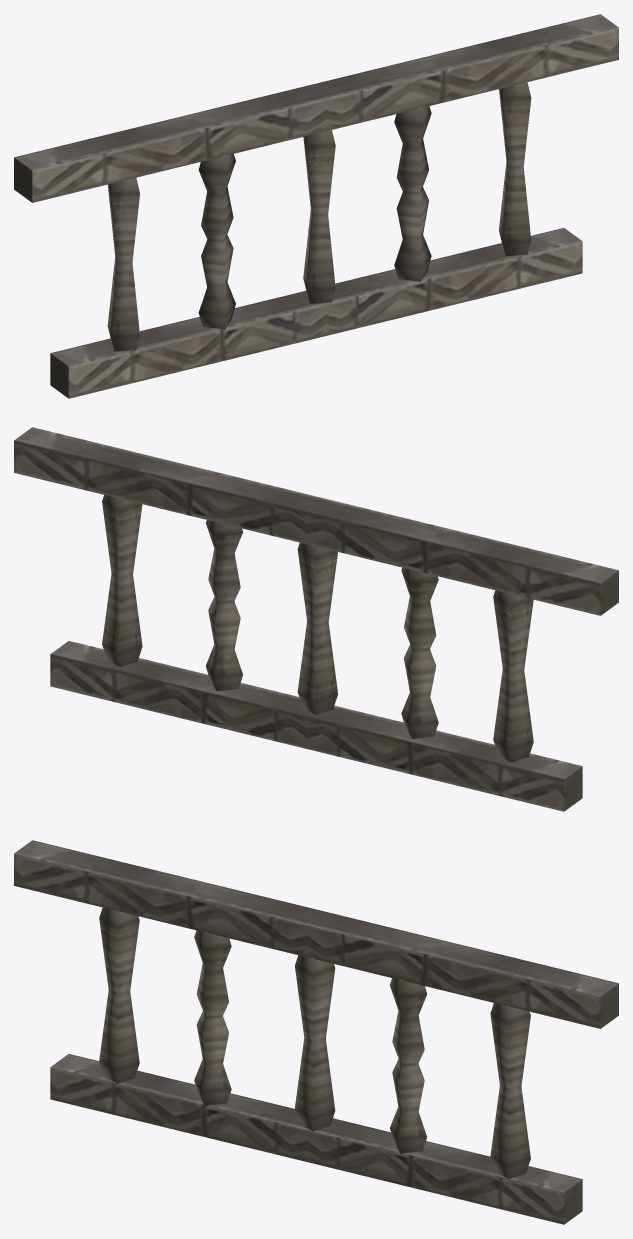
Rendered from DN_tushuguan_langan.FBX.
3 views of the same model, one above another, from view 1: azimuth 30°, elevation 25°; view 2: azimuth 150°, elevation 25°; view 3: azimuth 330°, elevation 25° (orthographic).
Visible parts, largest first — view 1: DN_tushuguan_langan; view 2: DN_tushuguan_langan; view 3: DN_tushuguan_langan.
Boxes of the visible parts, bbox=[...] form: DN_tushuguan_langan: bbox=[14, 14, 618, 398]; DN_tushuguan_langan: bbox=[14, 427, 618, 811]; DN_tushuguan_langan: bbox=[14, 840, 618, 1224].
Bounding box in the file's own units: 275 × 106 × 17.52.
